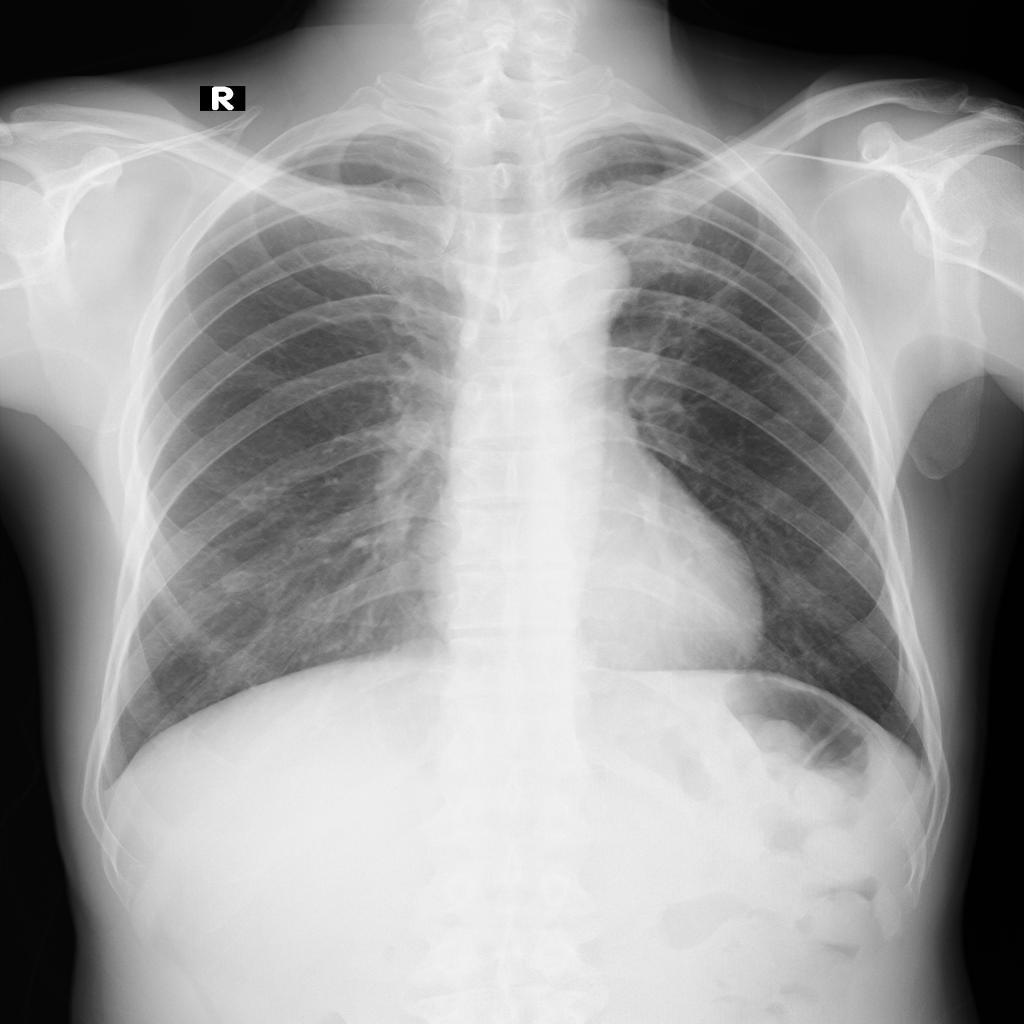Nodule: (220, 570, 259, 598)
